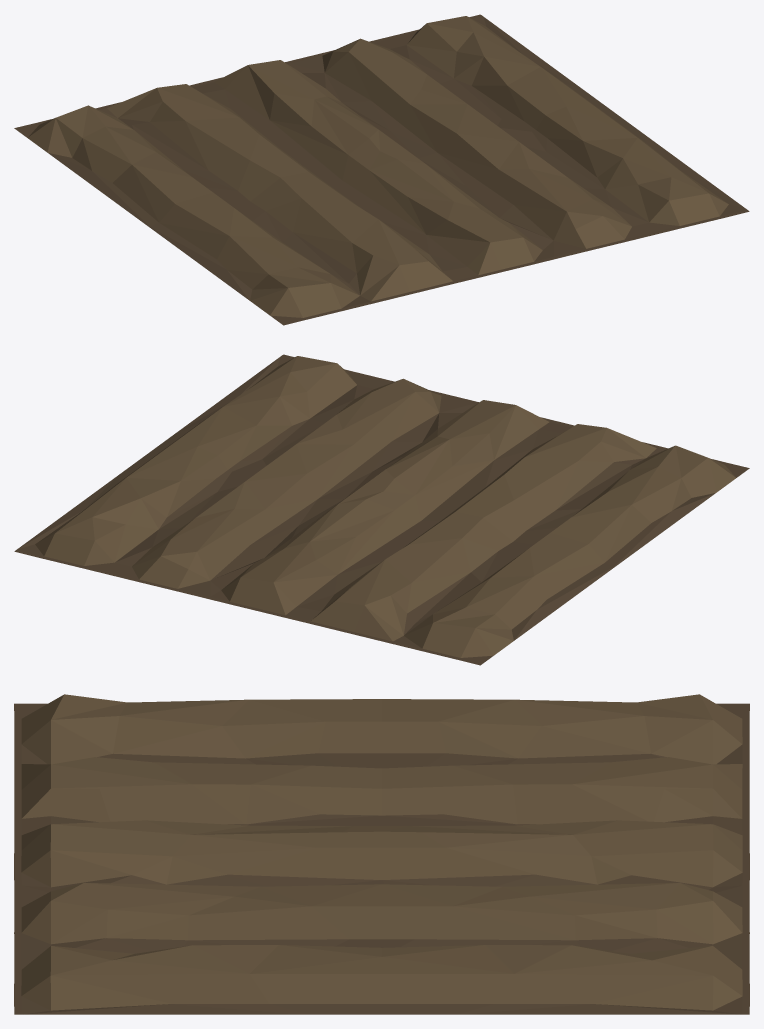
The model's file is SM_Envr_Nature_Farm_Field_Row.fbx.
3 renders of one model, top to bottom at view 1: azimuth 30°, elevation 25°; view 2: azimuth 150°, elevation 25°; view 3: azimuth 270°, elevation 25°, orthographic. The views are drawn at different scales.
Visible parts, largest first — view 1: SM_Envr_Nature_Farm_Field_Row; view 2: SM_Envr_Nature_Farm_Field_Row; view 3: SM_Envr_Nature_Farm_Field_Row.
Part boxes in pixels (x1,y1,x2,y2): SM_Envr_Nature_Farm_Field_Row: (14, 14, 749, 325); SM_Envr_Nature_Farm_Field_Row: (14, 354, 749, 665); SM_Envr_Nature_Farm_Field_Row: (14, 694, 749, 1014).
Size of the model in its own units: 500 by 23.38 by 500.
